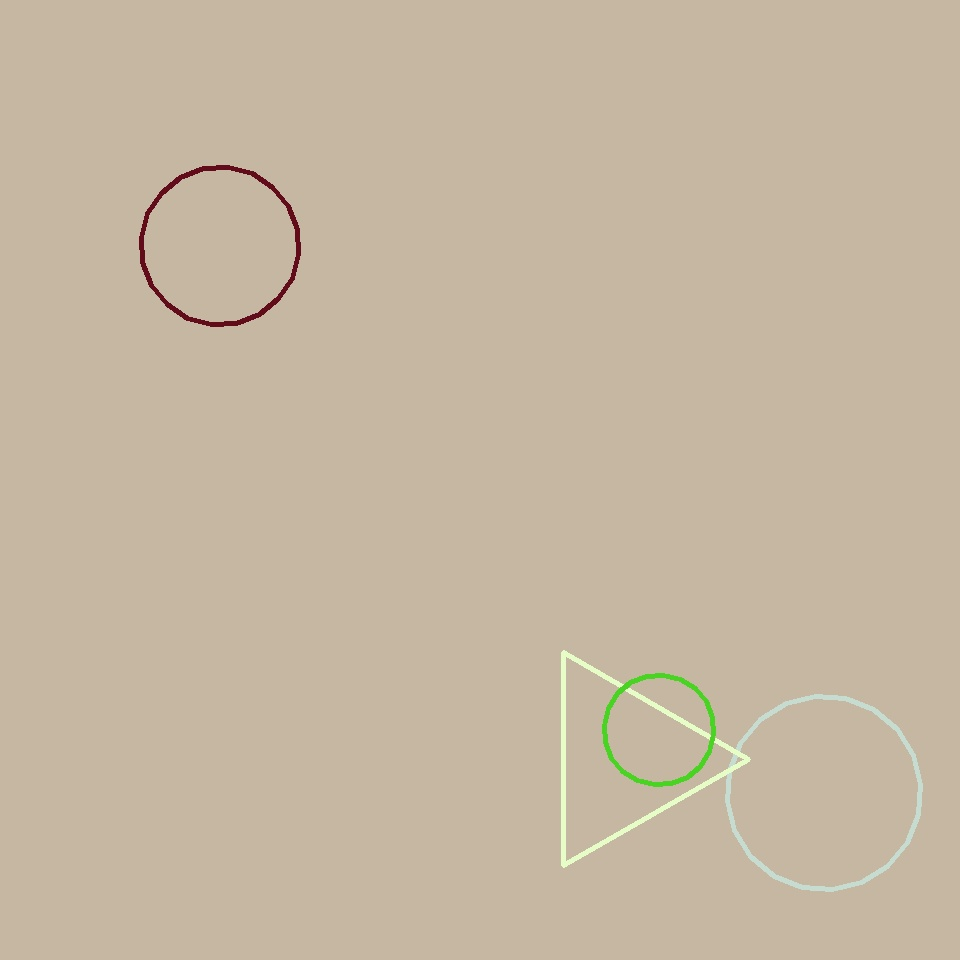circle: (532, 652, 717, 866)
triangle: (728, 696, 920, 890), (142, 167, 298, 324), (604, 676, 714, 784)
